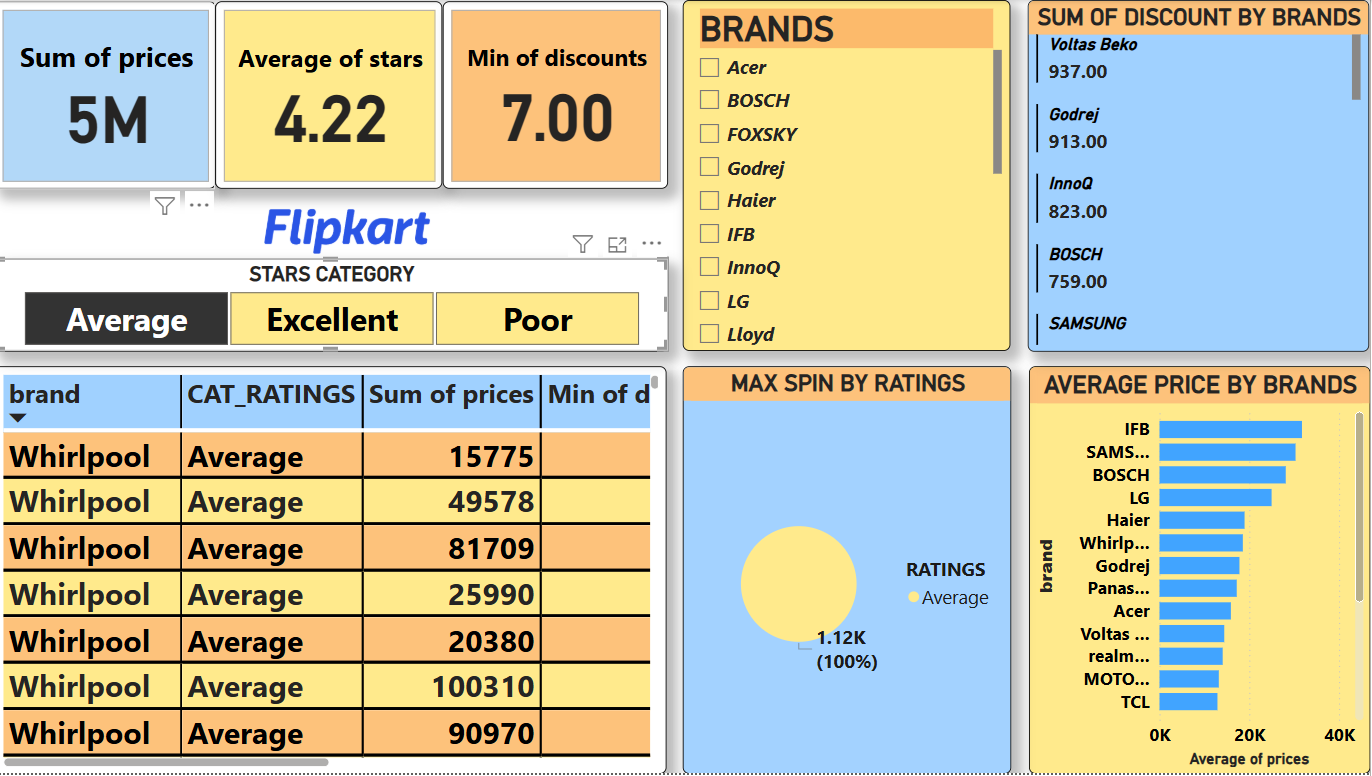

Layout of this report page (visuals, bound fields, positions):
{"tool":"powerbi","page":{"name":"Page 1","canvas":[1280,720],"ordinal":0},"visuals":[{"type":"cardVisual","fields":{"Data":["Sum(flikpart_cleaned_data_for_bi.prices)"]},"box":[0,1.6,206.3,174.6],"z":0},{"type":"cardVisual","fields":{"Data":["Avg(flikpart_cleaned_data_for_bi.stars)"]},"box":[206.3,1.6,211.1,174.6],"z":1000},{"type":"cardVisual","fields":{"Data":["Min(flikpart_cleaned_data_for_bi.discounts)"]},"box":[417.5,1.6,209.5,174.6],"z":2000},{"type":"slicer","fields":{"Values":["flikpart_cleaned_data_for_bi.brand"]},"box":[640.6,0,304.3,326.9],"z":3000},{"type":"slicer","title":"STARS CATEGORY","fields":{"Values":["flikpart_cleaned_data_for_bi.CAT_RATINGS"]},"box":[0,240.8,626.9,86.3],"z":4000},{"type":"tableEx","fields":{"Values":["flikpart_cleaned_data_for_bi.brand","flikpart_cleaned_data_for_bi.CAT_RATINGS","Sum(flikpart_cleaned_data_for_bi.prices)","Min(flikpart_cleaned_data_for_bi.discounts)1","flikpart_cleaned_data_for_bi.max_spin_speed","flikpart_cleaned_data_for_bi.capacity","Avg(flikpart_cleaned_data_for_bi.stars)"]},"box":[1.9,340.2,625.5,379.8],"z":5000},{"type":"actionButton","box":[0,2.8,100,36.1],"z":6000},{"type":"clusteredBarChart","title":"AVERAGE PRICE BY BRANDS","fields":{"Category":["flikpart_cleaned_data_for_bi.brand"],"Y":["Avg(flikpart_cleaned_data_for_bi.prices)"]},"box":[964.3,342.9,316.7,359.5],"z":7000},{"type":"multiRowCard","title":"SUM OF DISCOUNT BY BRANDS","fields":{"Values":["Sum(flikpart_cleaned_data_for_bi.discounts)","flikpart_cleaned_data_for_bi.brand"]},"box":[961.9,0,317.5,326.9],"z":8000},{"type":"image","box":[49.1,189,559.4,51],"z":9000},{"type":"pieChart","title":"MAX SPIN BY RATINGS","fields":{"Series":["flikpart_cleaned_data_for_bi.CAT_RATINGS"],"Y":["Avg(flikpart_cleaned_data_for_bi.max_spin_speed)"]},"box":[640,343.3,305,360],"z":10000}]}

Visuals, with their boxes in screenshot pixels (x1, y1, x2, y2), scaled from the page's 1280x720 canvas onto the 1372x776 screenshot:
cardVisual - Sum(flikpart_cleaned_data_for_bi.prices): [left=0, top=2, right=221, bottom=190]
cardVisual - Avg(flikpart_cleaned_data_for_bi.stars): [left=221, top=2, right=447, bottom=190]
cardVisual - Min(flikpart_cleaned_data_for_bi.discounts): [left=448, top=2, right=672, bottom=190]
slicer - flikpart_cleaned_data_for_bi.brand: [left=687, top=0, right=1013, bottom=352]
"STARS CATEGORY" slicer: [left=0, top=260, right=672, bottom=353]
tableEx - flikpart_cleaned_data_for_bi.brand x flikpart_cleaned_data_for_bi.CAT_RATINGS: [left=2, top=367, right=672, bottom=775]
actionButton: [left=0, top=3, right=107, bottom=42]
"AVERAGE PRICE BY BRANDS" clusteredBarChart: [left=1034, top=370, right=1371, bottom=757]
"SUM OF DISCOUNT BY BRANDS" multiRowCard: [left=1031, top=0, right=1371, bottom=352]
image: [left=53, top=204, right=652, bottom=259]
"MAX SPIN BY RATINGS" pieChart: [left=686, top=370, right=1013, bottom=758]
